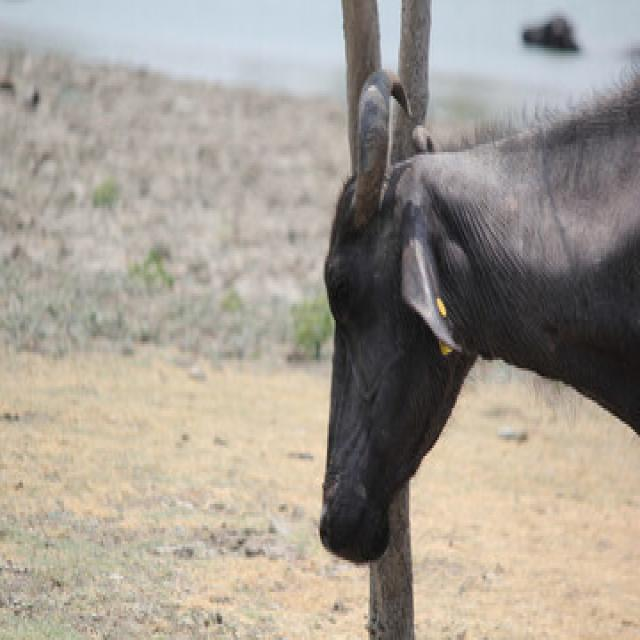Buffalo: (315, 63, 640, 566)
